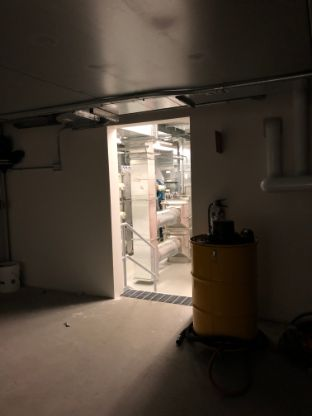Duct: (123, 115, 167, 284)
